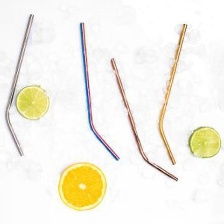drinking_straw: (107, 55, 184, 187), (74, 20, 126, 164), (154, 22, 197, 168), (1, 12, 41, 161)
